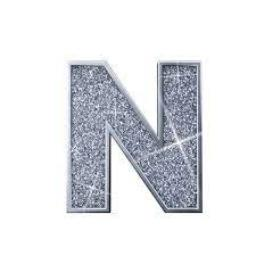n: (62, 50, 210, 222)
